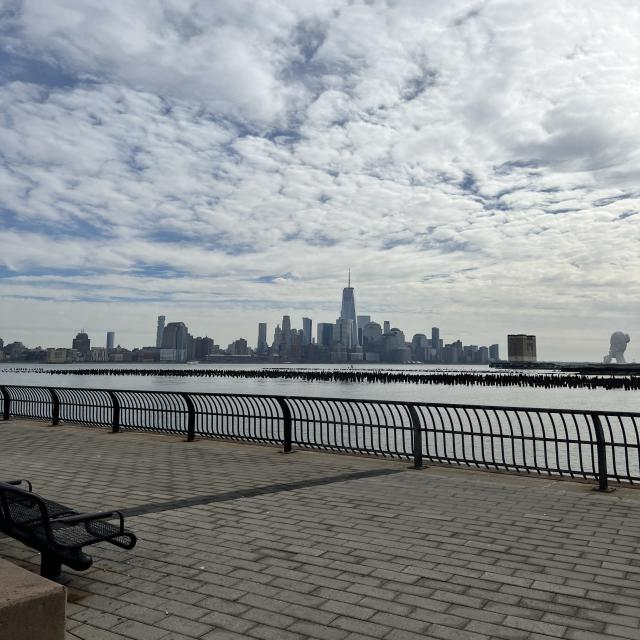WTC: (340, 268, 356, 320)
